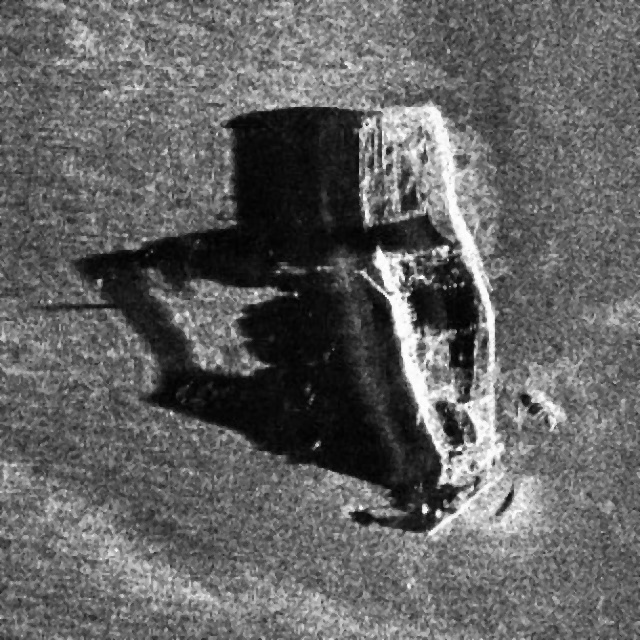Ship: (320, 94, 508, 544)
